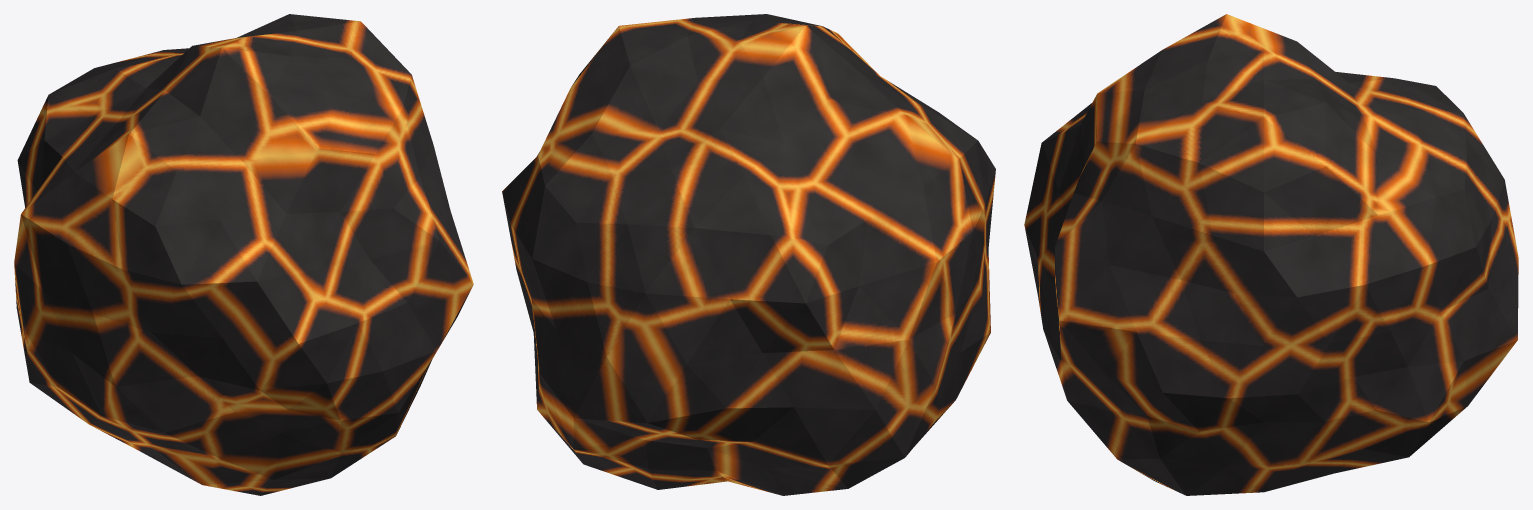
File: Meteor.fbx
The picture shows the model from 3 angles, left to right: view 1: azimuth 30°, elevation 25°; view 2: azimuth 150°, elevation 25°; view 3: azimuth 270°, elevation 25°; orthographic projection. The views are drawn at different scales.
Visible parts, largest first — view 1: Meteor; view 2: Meteor; view 3: Meteor.
Part boxes in pixels (box(x1,y1,x2,y2)): Meteor: box(14, 14, 473, 495); Meteor: box(502, 14, 995, 495); Meteor: box(1024, 14, 1518, 495).
Bounding box in the file's own units: 5.95 × 6.51 × 6.43.
1 material, 1 textured.
